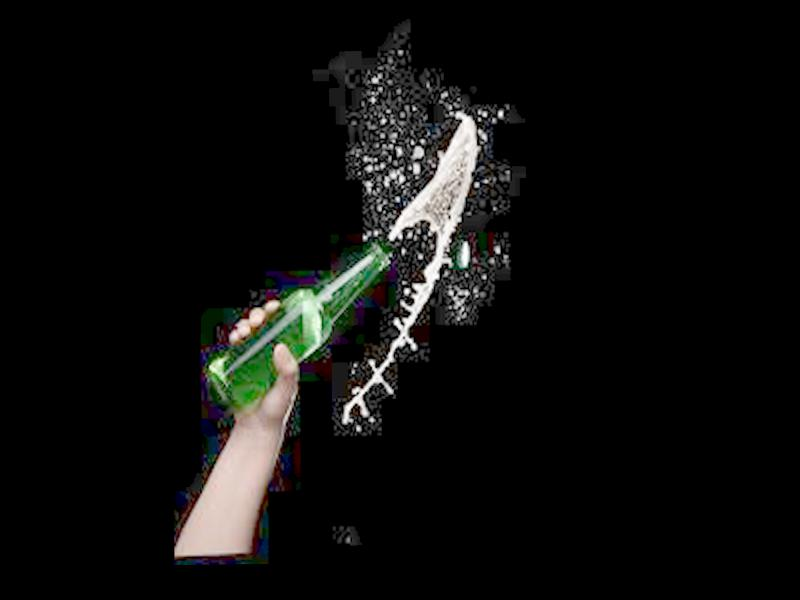Beer: (203, 244, 388, 413)
